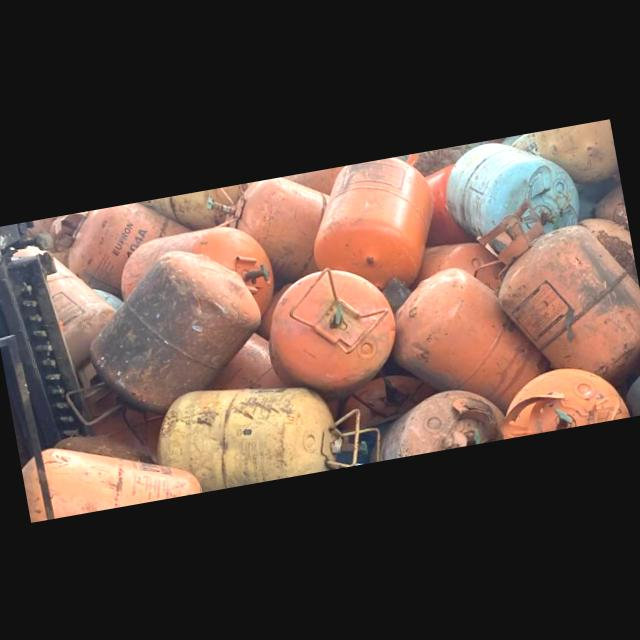Cylinders: (480, 204, 640, 377), (151, 389, 380, 492), (311, 156, 437, 285)
